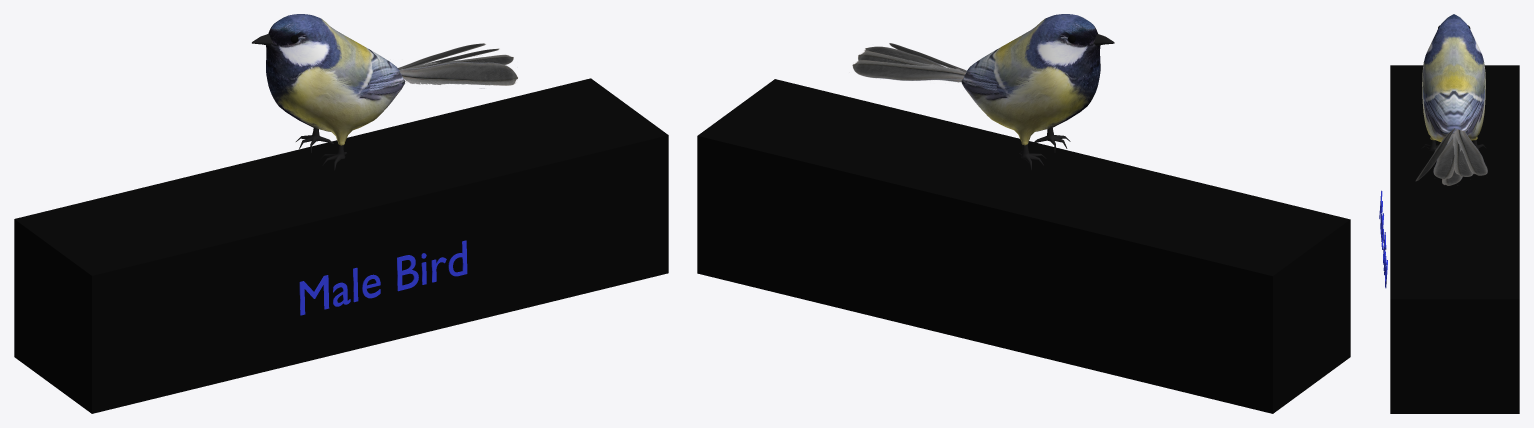
File: malebird.gltf
3 views of the same model, side by side, from view 1: azimuth 30°, elevation 25°; view 2: azimuth 150°, elevation 25°; view 3: azimuth 270°, elevation 25° (orthographic). The views are drawn at different scales.
Parts seen in each view (by area): view 1: Cube.001, body2.003, Text.005, tail_feather1.003; view 2: Cube.001, body2.003, tail_feather2.003; view 3: Cube.001, body2.003, tail_feather2.003, tail_feather5.003, tail_feather4.003, tail_feather1.003, Text.005, tail_feather3.003, legs.003.
Part boxes in pixels (box(x1,y1,x2,y2)): Cube.001: box(14, 78, 668, 413); body2.003: box(266, 14, 404, 145); Text.005: box(299, 240, 467, 315); tail_feather1.003: box(399, 62, 517, 88); Cube.001: box(697, 79, 1350, 413); body2.003: box(961, 14, 1100, 145); tail_feather2.003: box(852, 59, 966, 80); Cube.001: box(1390, 65, 1519, 413); body2.003: box(1422, 14, 1485, 141); tail_feather2.003: box(1454, 129, 1487, 175); tail_feather5.003: box(1433, 135, 1461, 179); tail_feather4.003: box(1451, 133, 1473, 176); tail_feather1.003: box(1415, 128, 1454, 181); Text.005: box(1379, 190, 1387, 288); tail_feather3.003: box(1442, 133, 1462, 185); legs.003: box(1421, 140, 1486, 151).
Bounding box in the file's own units: 3.34 × 1.72 × 0.8464.
7 materials, 2 textured.
